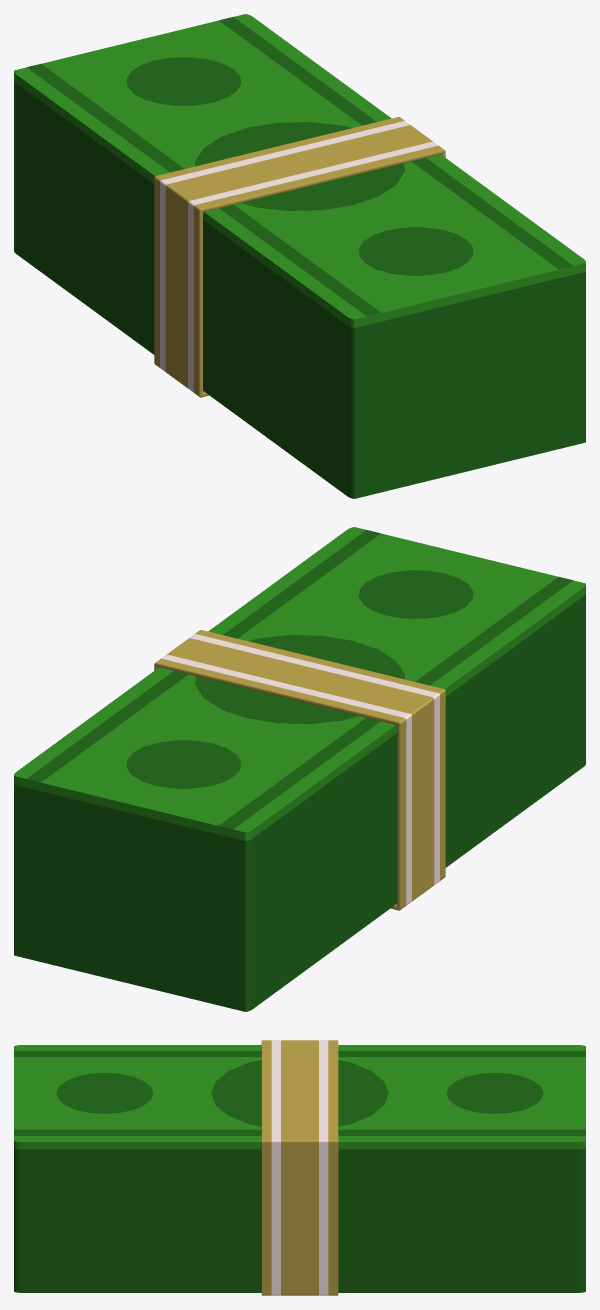
File: Para.fbx
3 renders of one model, top to bottom at view 1: azimuth 30°, elevation 25°; view 2: azimuth 150°, elevation 25°; view 3: azimuth 270°, elevation 25°, orthographic. The views are drawn at different scales.
Parts seen in each view (by area): view 1: Cube.001; view 2: Cube.001; view 3: Cube.001.
Boxes of the visible parts, box(x1,y1,x2,y2) form: Cube.001: box(14, 14, 585, 498); Cube.001: box(14, 527, 585, 1011); Cube.001: box(14, 1040, 585, 1295).
Size of the model in its own units: 498 by 152 by 208.
